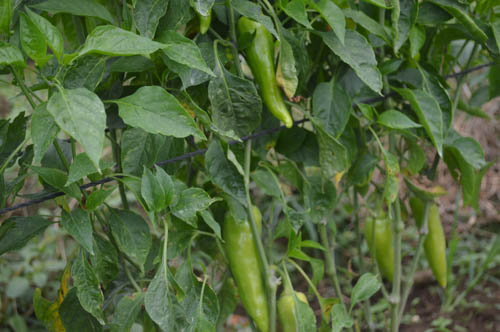ChiliPepper: (241, 20, 299, 129), (227, 207, 268, 330), (414, 197, 451, 290), (367, 219, 393, 277), (277, 293, 311, 329)
